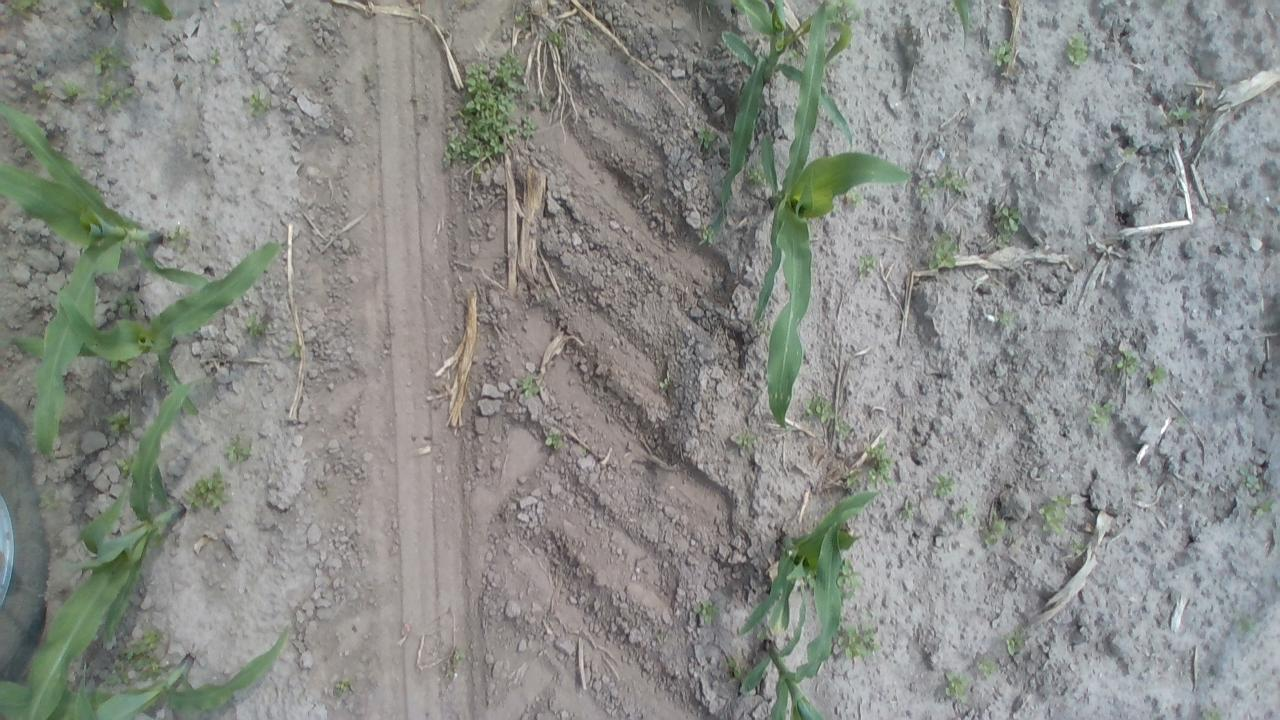Maize: (0, 95, 236, 445), (749, 14, 924, 423), (5, 374, 206, 716), (8, 228, 286, 420), (705, 0, 866, 234), (718, 510, 878, 720), (734, 492, 886, 677), (26, 624, 300, 718), (948, 0, 974, 39)
Weeds: (444, 52, 534, 177), (105, 628, 171, 692), (186, 468, 230, 514), (836, 621, 881, 664), (861, 440, 896, 487), (1038, 490, 1074, 534), (927, 230, 960, 272), (992, 204, 1022, 250), (931, 165, 970, 197), (92, 82, 136, 108), (988, 40, 1022, 72), (804, 393, 836, 426), (88, 46, 124, 75), (105, 410, 138, 441), (942, 670, 971, 704), (839, 556, 860, 602), (224, 434, 255, 464), (242, 88, 271, 120), (1063, 33, 1091, 66), (1164, 99, 1198, 126), (982, 513, 1010, 545), (1086, 399, 1118, 427), (111, 289, 140, 318), (928, 472, 958, 500), (445, 644, 468, 679), (517, 371, 543, 400), (1146, 361, 1170, 392), (244, 312, 269, 341), (1116, 346, 1140, 376), (1238, 466, 1265, 492), (694, 600, 721, 626), (6, 0, 44, 18), (1003, 629, 1026, 656), (164, 227, 191, 250), (834, 416, 856, 444), (854, 253, 876, 281), (952, 499, 976, 524), (1247, 496, 1274, 518), (730, 430, 755, 452), (330, 677, 358, 696), (542, 430, 566, 452), (546, 26, 570, 48), (976, 655, 1001, 676), (831, 1, 856, 22), (696, 124, 716, 150), (724, 654, 744, 680), (744, 164, 766, 187), (31, 82, 51, 107), (996, 307, 1016, 332), (841, 466, 860, 492), (59, 84, 86, 102), (1067, 538, 1090, 559), (1234, 614, 1258, 634), (697, 222, 716, 246), (35, 491, 60, 509), (898, 498, 918, 520), (116, 455, 135, 478), (1211, 197, 1231, 218), (1199, 705, 1229, 719), (106, 358, 132, 374), (513, 6, 534, 25), (230, 16, 250, 34), (845, 188, 865, 206), (206, 49, 224, 68), (285, 340, 303, 358), (656, 376, 674, 394)
